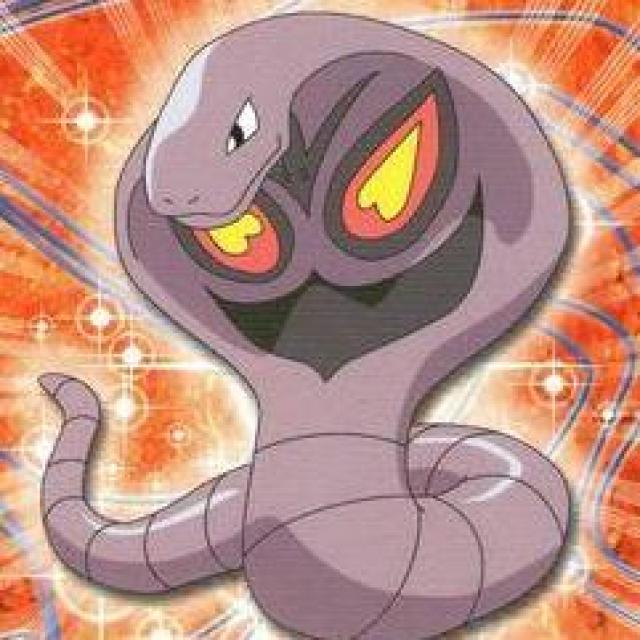Arbok: (56, 27, 584, 620)
